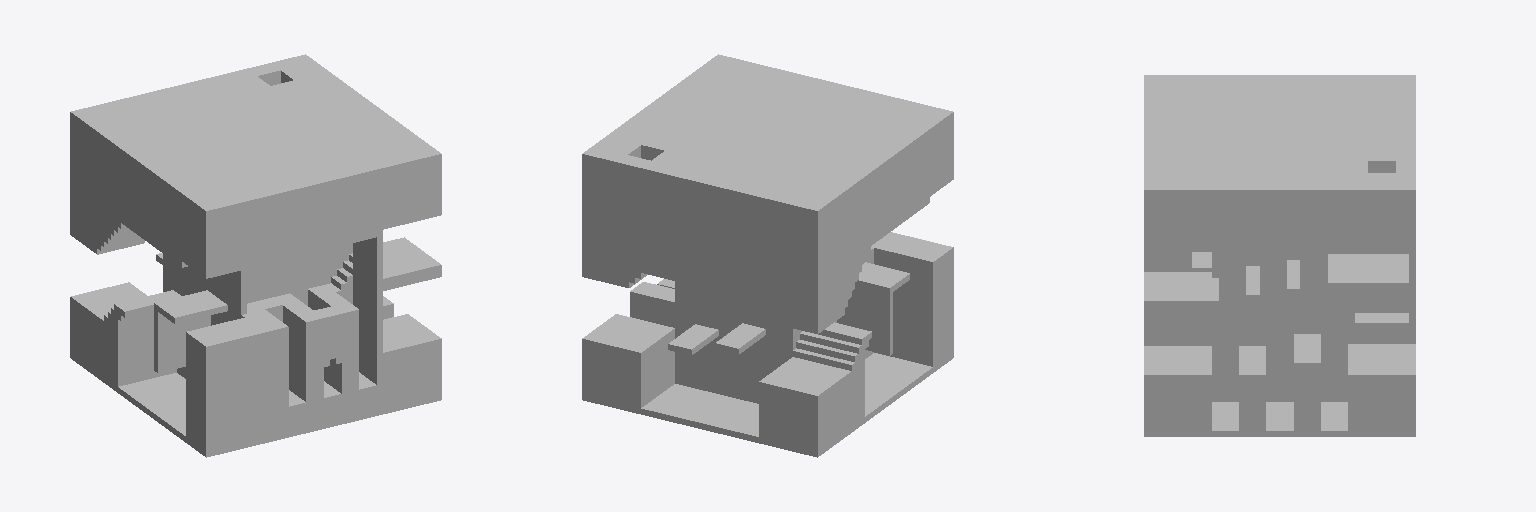
File: level1.obj
3 views of the same model, side by side, from view 1: azimuth 30°, elevation 25°; view 2: azimuth 150°, elevation 25°; view 3: azimuth 270°, elevation 25° (orthographic).
Parts seen in each view (by area): view 1: level1; view 2: level1; view 3: level1.
Boxes of the visible parts, x1,y1,x2,y2 form: level1: [70, 54, 441, 457]; level1: [582, 54, 953, 457]; level1: [1144, 75, 1415, 436].
Size of the model in its own units: 40 by 40 by 40.